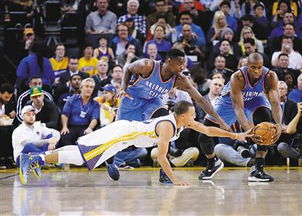10+: (4, 1, 300, 181)
down: (10, 102, 260, 186)
